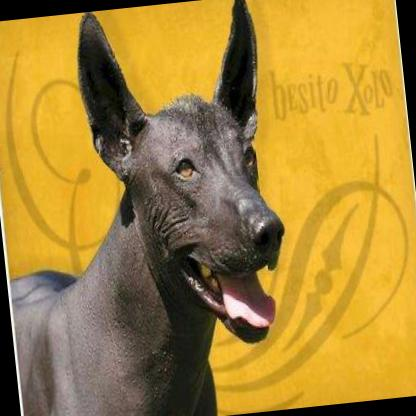Mexican_hairless: (0, 0, 305, 416)
